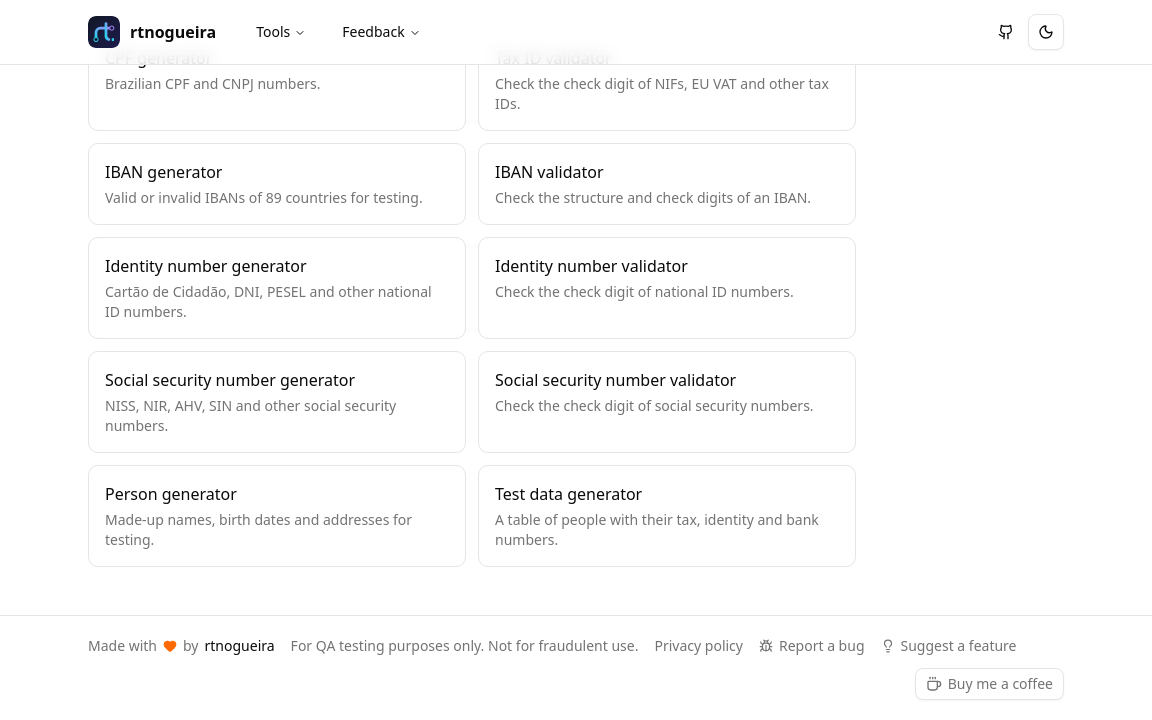
Test: Privacy policy page › is reachable from the footer and sets the page title
(page scrolled)
Click the link "Privacy policy".
click(699, 646)  # box [654,636,743,656]
(page scrolled)
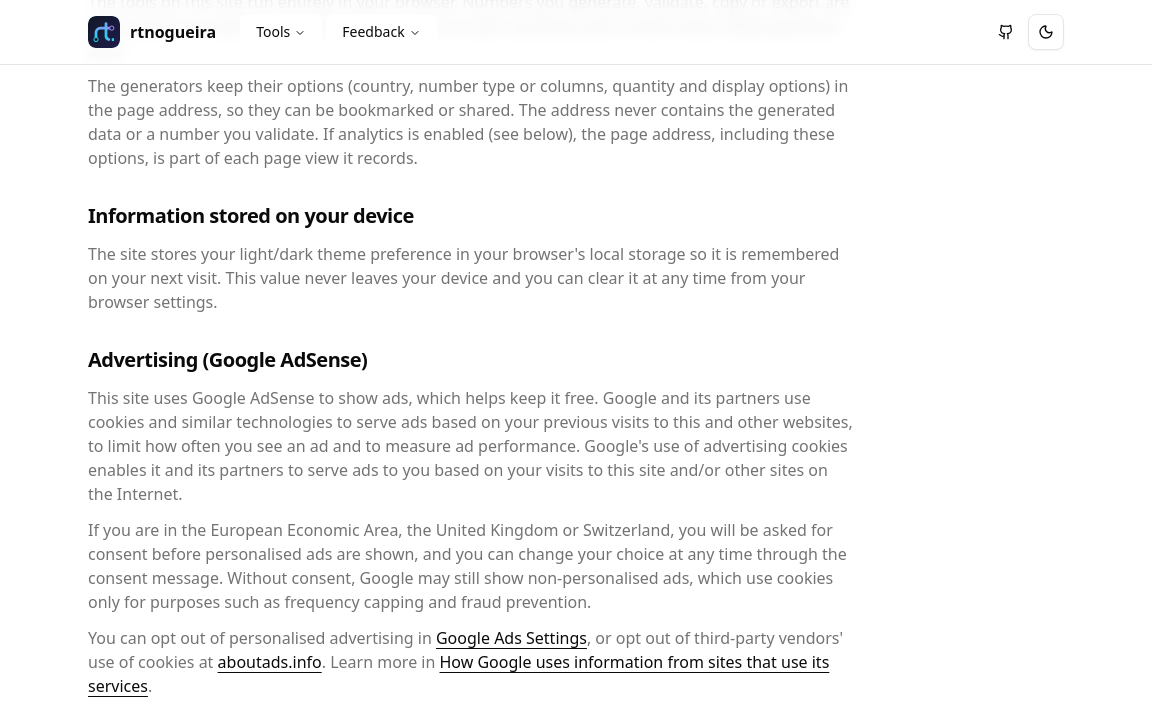
Result: the heading "Advertising (Google AdSense)" is shown at [88,346,367,373]
